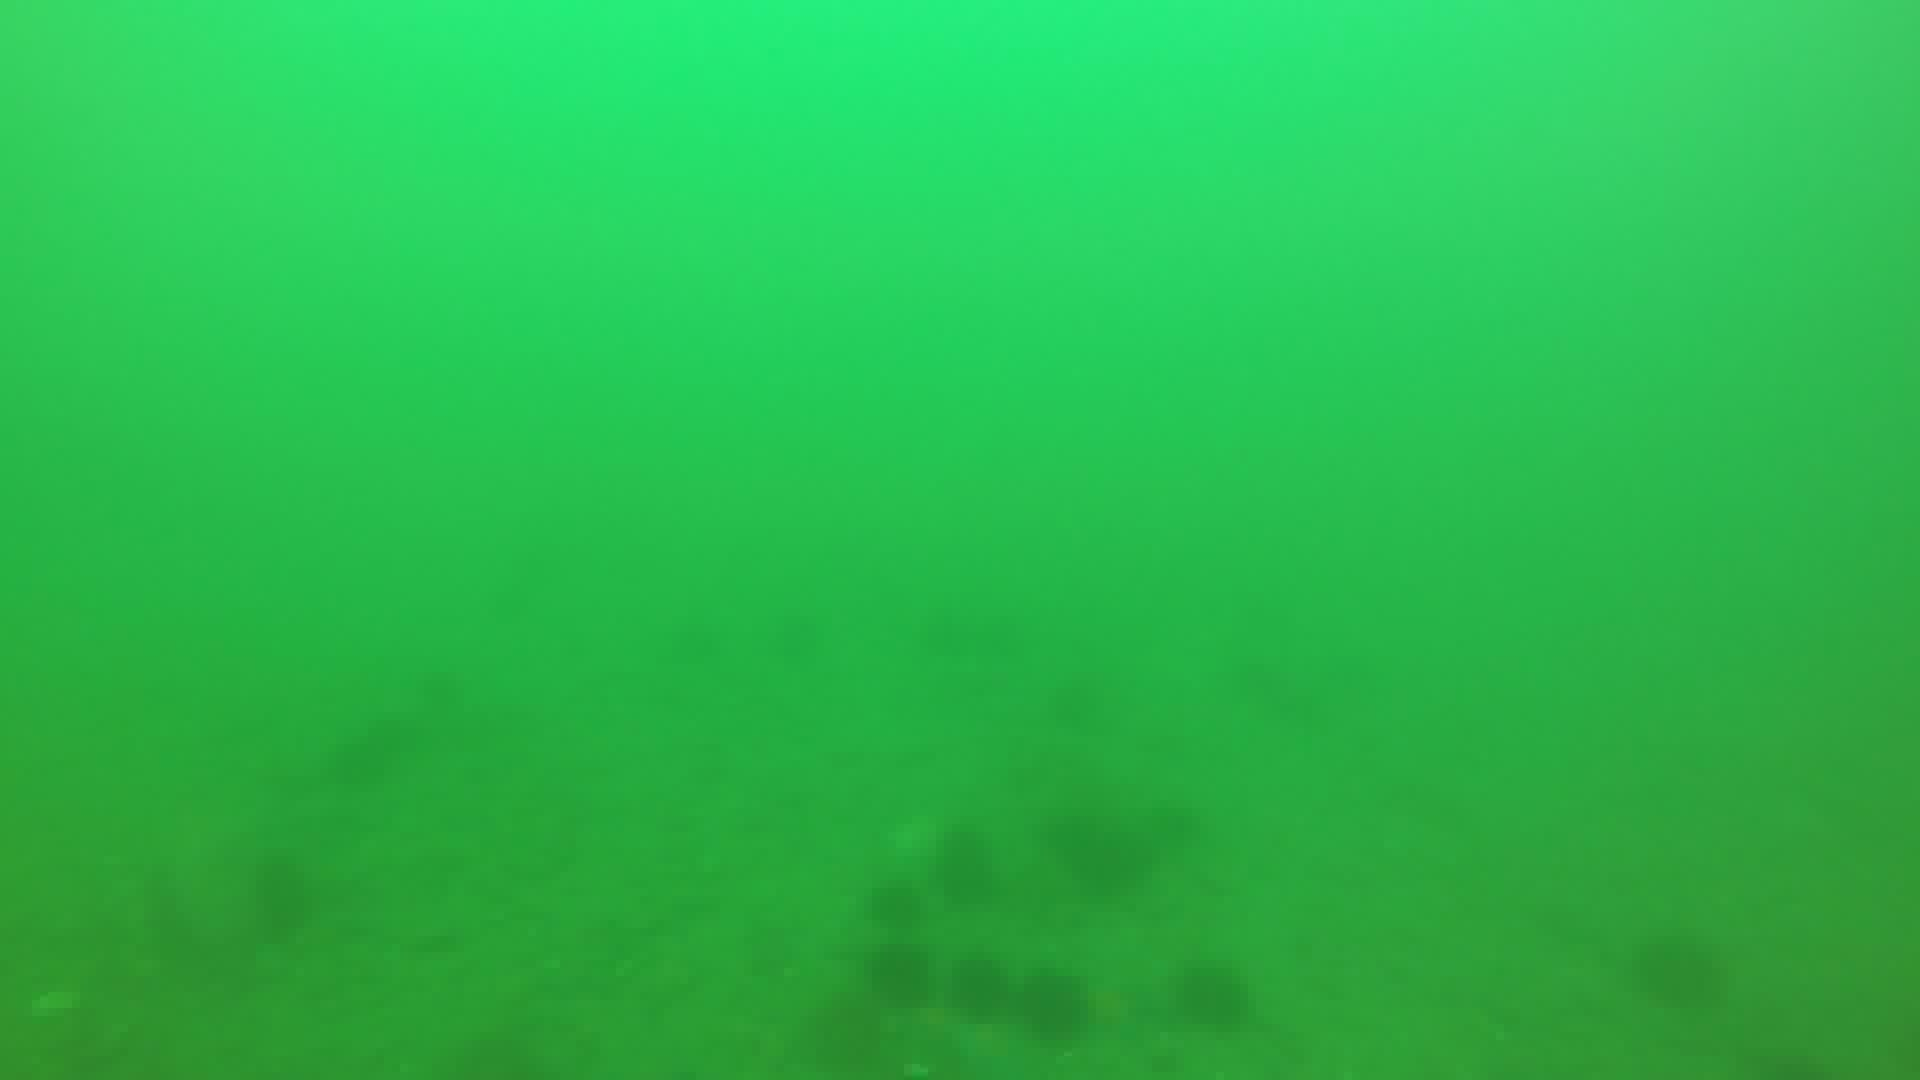echinus: (1044, 800, 1156, 895), (1626, 922, 1733, 1013), (243, 847, 320, 942), (1168, 953, 1255, 1035), (1013, 963, 1096, 1046), (927, 820, 1004, 905), (861, 938, 938, 1011), (945, 949, 1015, 1022), (1141, 793, 1208, 855), (860, 874, 928, 934)
starfish: (947, 1015, 1055, 1080)
